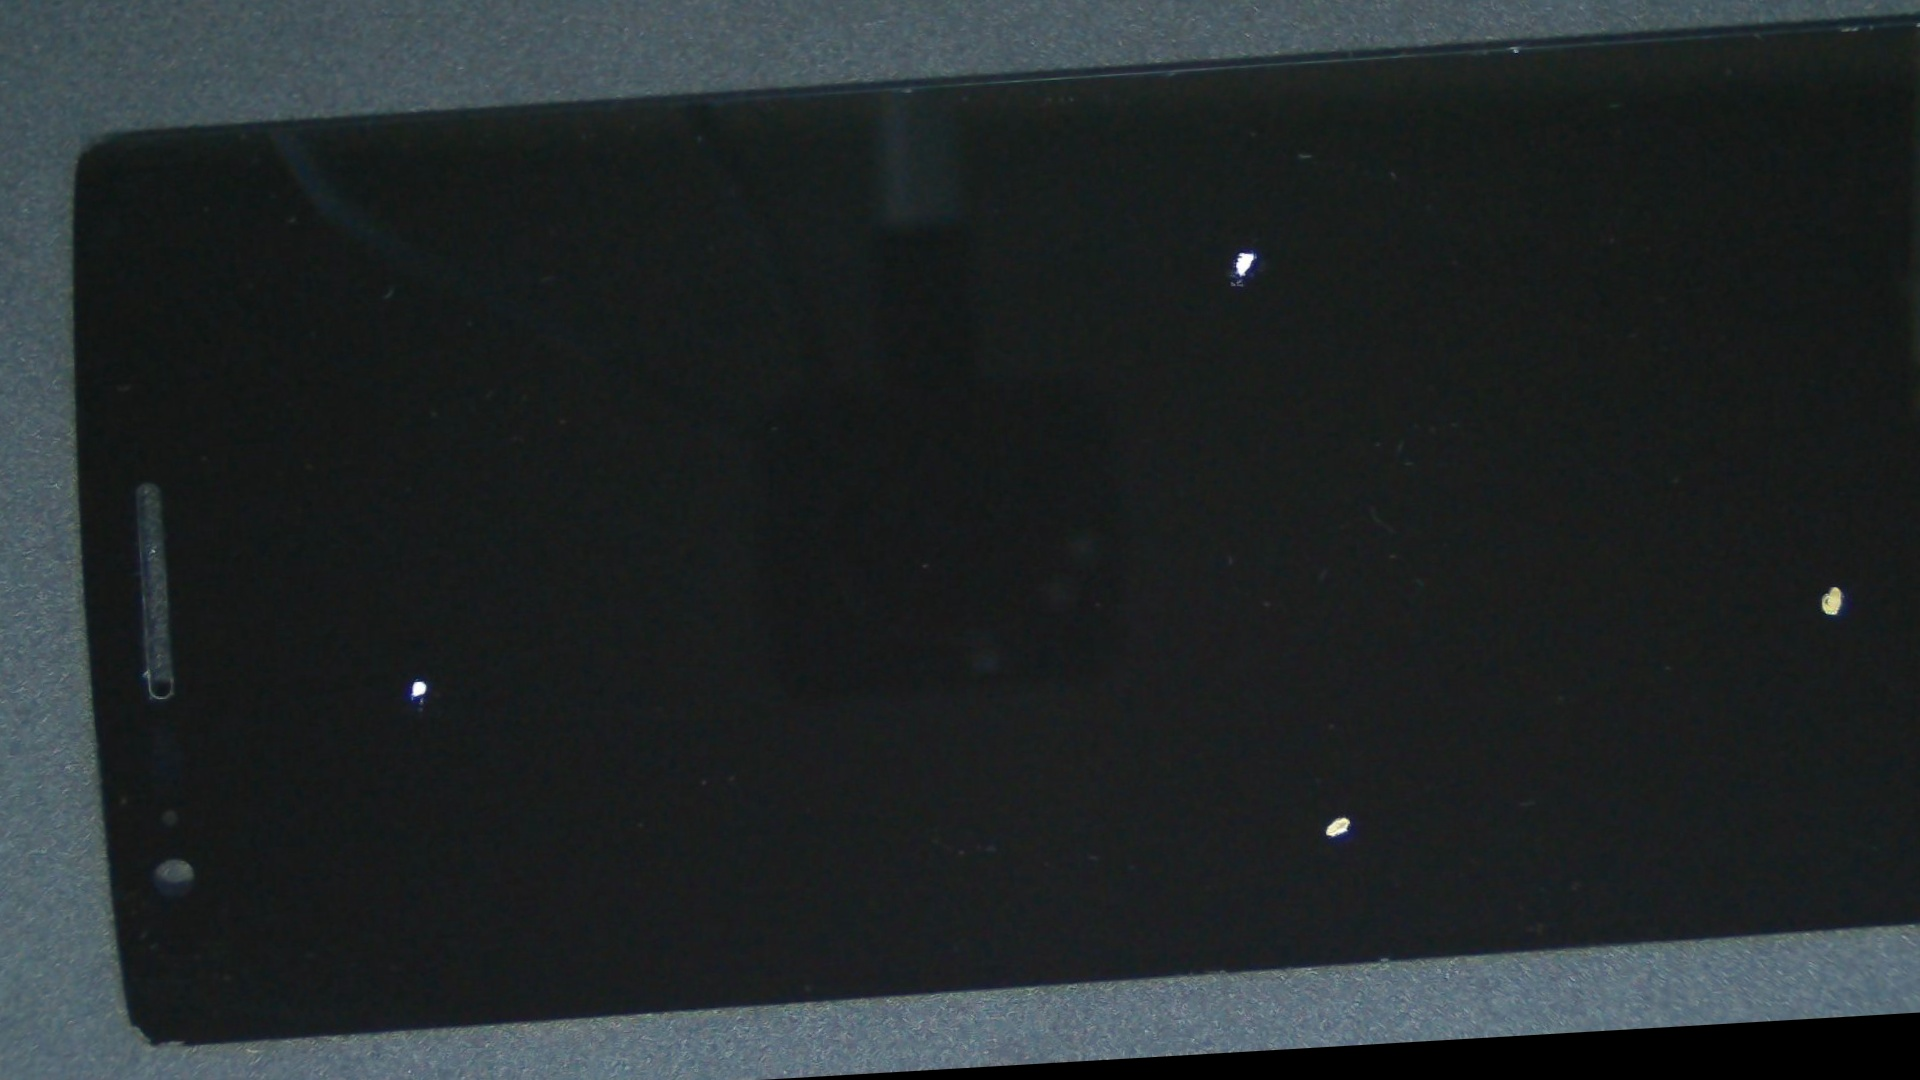oil: (611, 322, 1920, 1080), (862, 211, 1920, 992), (564, 45, 1919, 458), (156, 306, 691, 1048)
